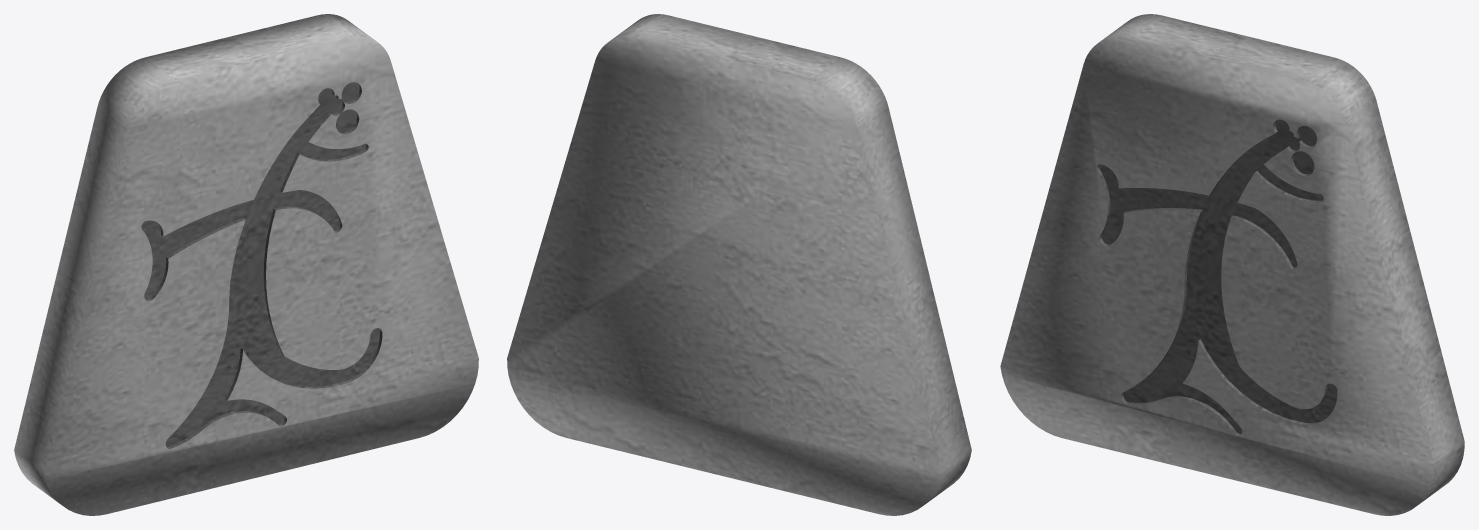
3 renders of one model, left to right at view 1: azimuth 30°, elevation 25°; view 2: azimuth 150°, elevation 25°; view 3: azimuth 330°, elevation 25°, orthographic.
Visible parts, largest first — view 1: SketchUp (×2); view 2: SketchUp; view 3: SketchUp (×2).
Part boxes in pixels (box(x1,y1,x2,y2)): SketchUp (×2): box(14, 14, 478, 515); SketchUp: box(507, 14, 971, 515); SketchUp (×2): box(1000, 14, 1464, 515).
Size of the model in its own units: 13.73 by 1.69 by 12.62.
Materials: 2 (2 with a texture image).
